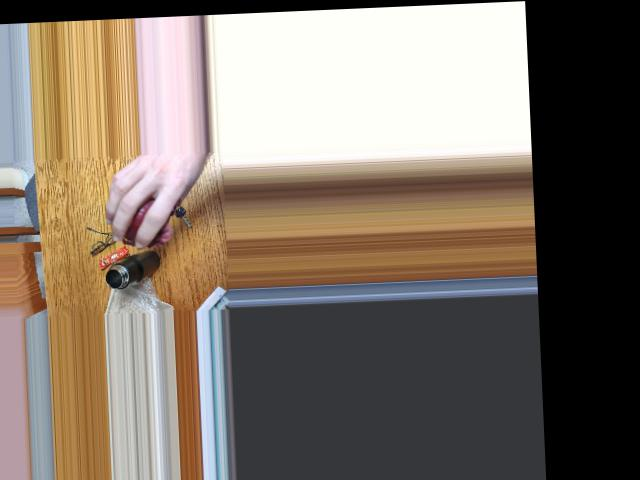onion: (116, 185, 178, 237)
